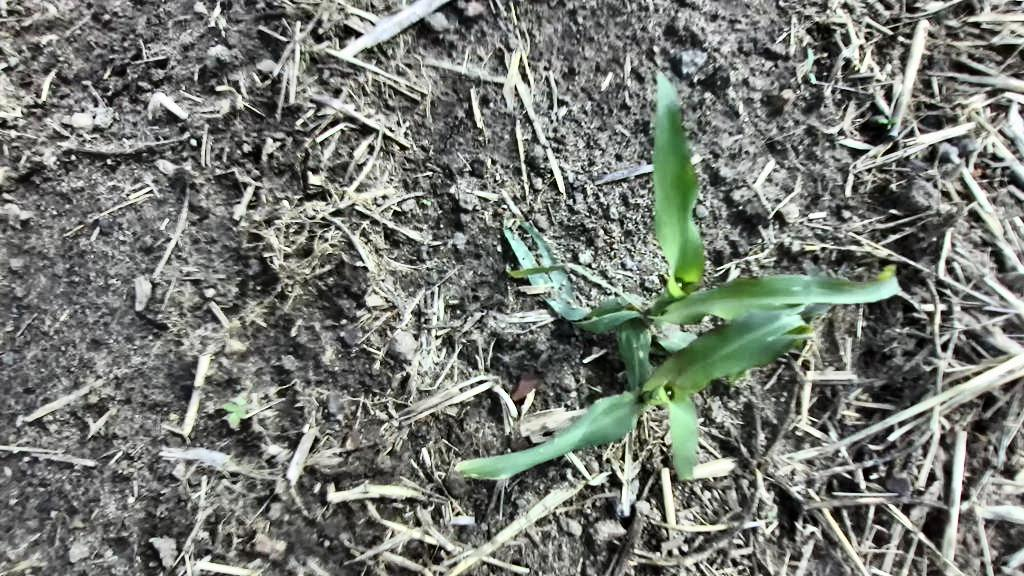BroWeed: (212, 388, 258, 433), (804, 46, 816, 85), (878, 110, 899, 132), (419, 198, 432, 207)
Maize: (470, 53, 913, 483), (445, 280, 876, 570)
